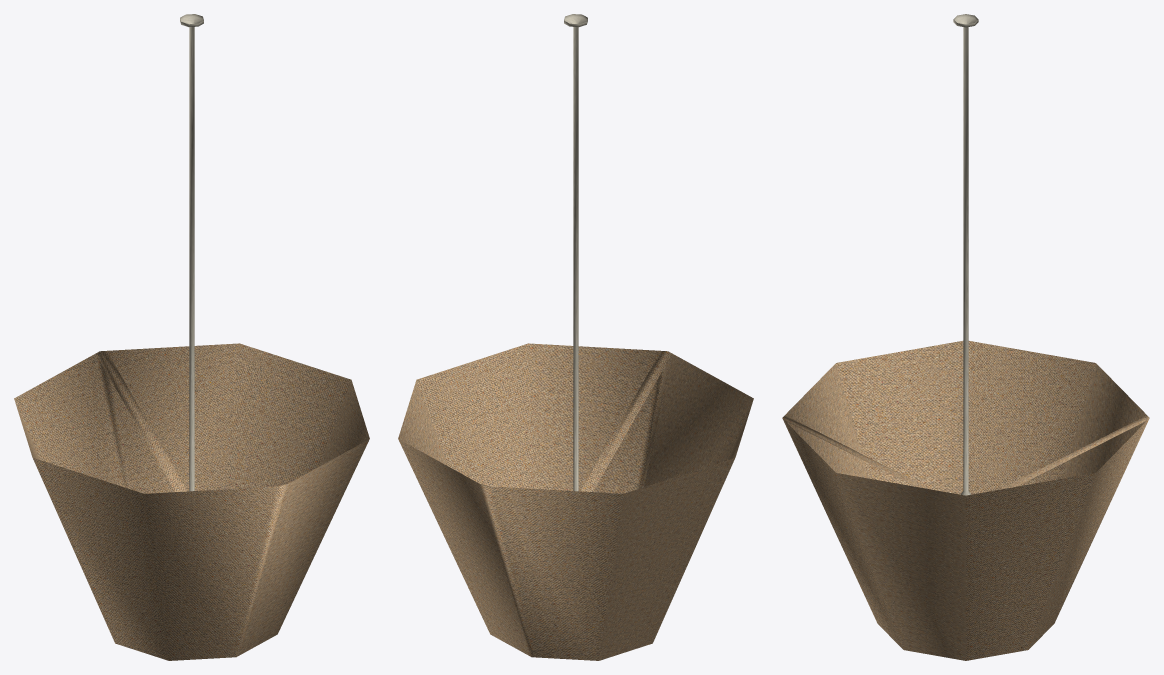
File: lamp_overhead_01.glb
The picture shows the model from 3 angles, left to right: view 1: azimuth 30°, elevation 25°; view 2: azimuth 150°, elevation 25°; view 3: azimuth 270°, elevation 25°; orthographic projection.
Visible parts, largest first — view 1: shade, bulb; view 2: shade, bulb; view 3: shade, bulb.
Boxes of the visible parts, x1,y1,x2,y2 form: shade: [14, 343, 369, 660]; bulb: [180, 14, 203, 491]; shade: [398, 343, 753, 660]; bulb: [564, 14, 587, 491]; shade: [782, 341, 1149, 660]; bulb: [953, 14, 978, 495].
Size of the model in its own units: 8.1 by 14.69 by 8.1.
Materials: 3 (2 with a texture image).
